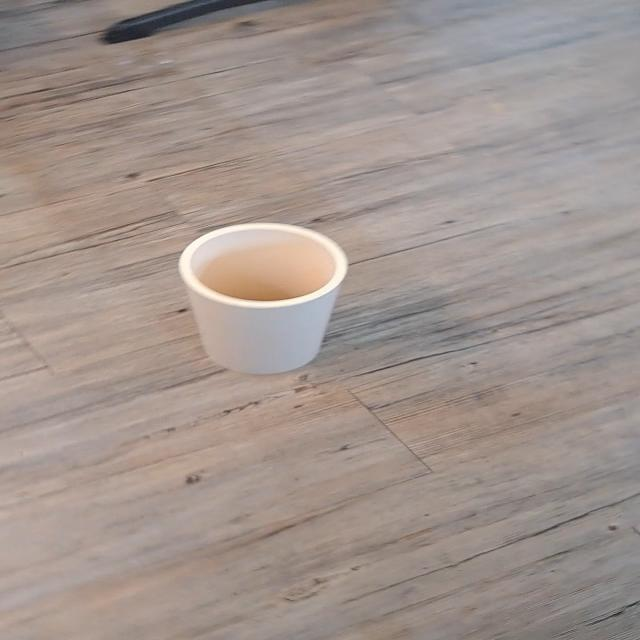CORAL: (160, 210, 369, 385)
